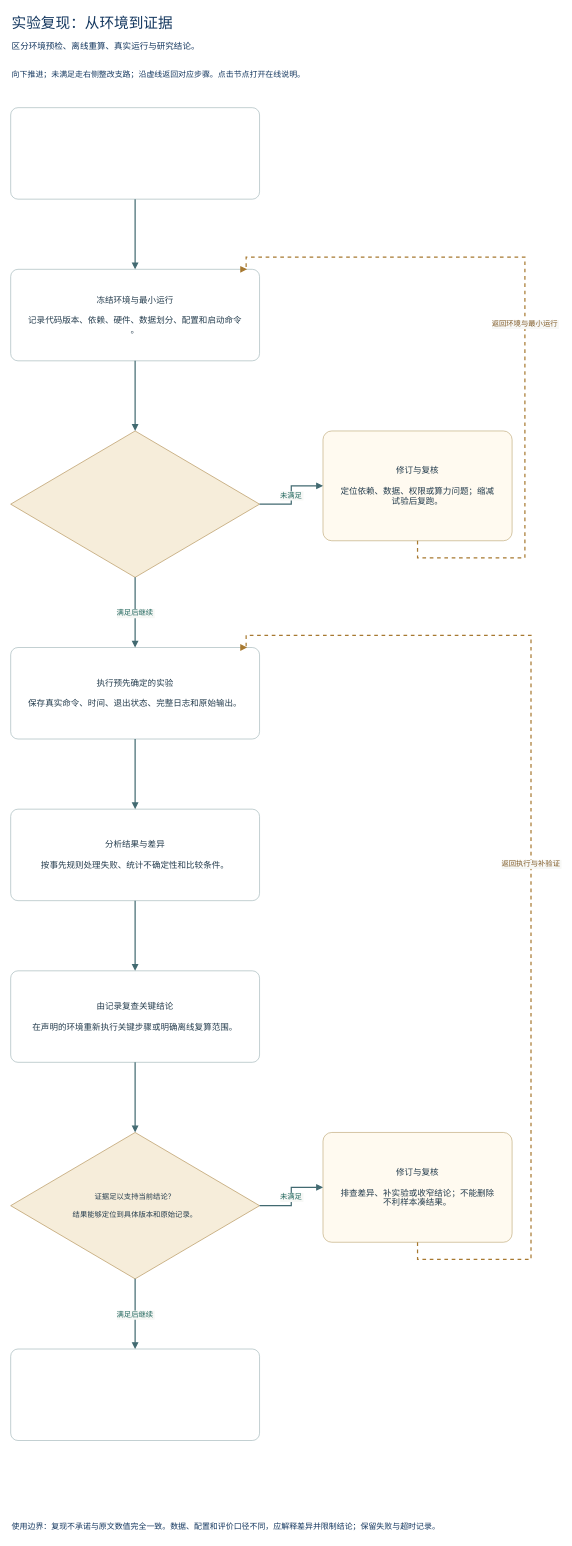
The diagram is 572 pixels wide and 1546 high, and some of its shapes have lost their labels. The shapes that lost their labels are listed below. From the top down, each one's centre as x and y in pixels, then its label:
At point 135,153: "确定复现目标与原始基线 明确论文版本、目标结论、数据许可与评价口径。".
At point 135,503: "最小运行及资源条件满足？ 安装成功不等于真实实验已完成。".
At point 135,1394: "形成可复查实验包 提供配置、日志、分析脚本、README、限制与许可。".
